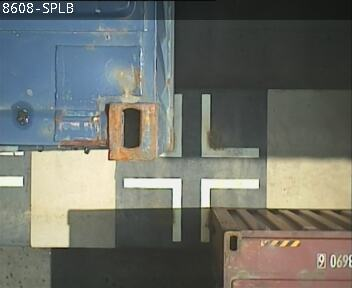groundmarker_1: (123, 176, 260, 241), (158, 93, 259, 157)
